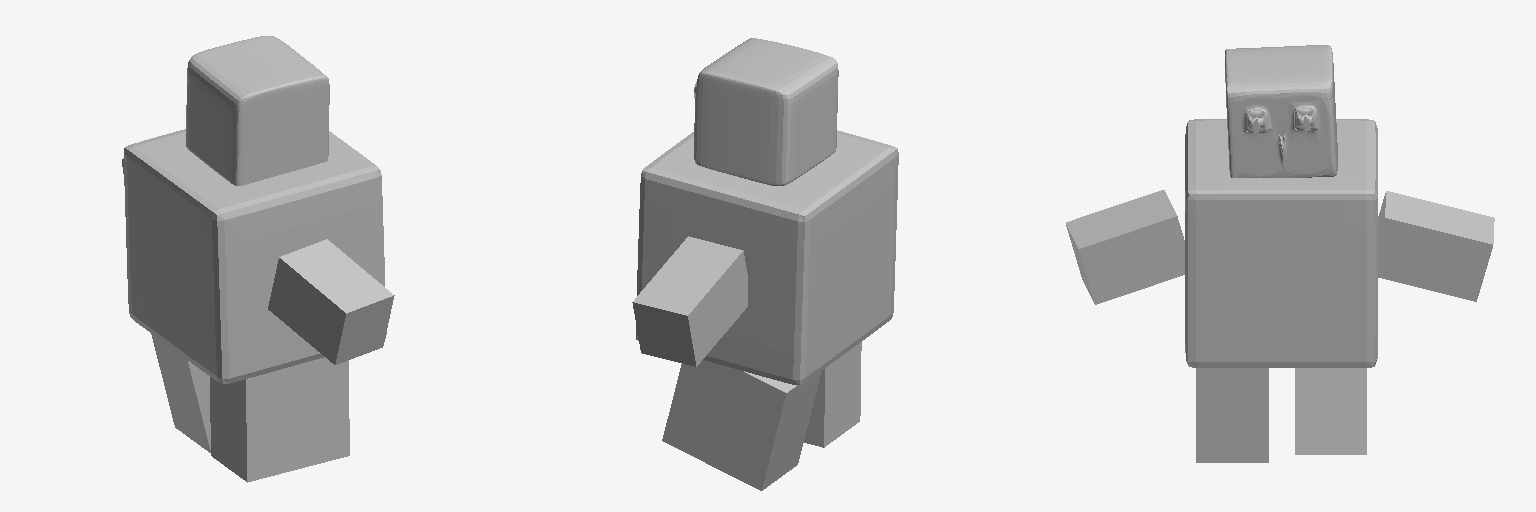
The picture shows the model from 3 angles: view 1: azimuth 30°, elevation 25°; view 2: azimuth 150°, elevation 25°; view 3: azimuth 270°, elevation 25°; orthographic projection.
Visible parts, largest first — view 1: Cube_Cube.001, Cube.001_Cube.002, Cube.002_Cube.003, Cube.005_Cube.007, Cube.003_Cube.004; view 2: Cube_Cube.001, Cube.001_Cube.002, Cube.003_Cube.004, Cube.004_Cube.005, Cube.002_Cube.003; view 3: Cube_Cube.001, Cube.001_Cube.002, Cube.004_Cube.005, Cube.005_Cube.007, Cube.002_Cube.003, Cube.003_Cube.004.
Part boxes in pixels (left/top/right/bottom): Cube_Cube.001: left=124, top=129, right=386, bottom=383; Cube.001_Cube.002: left=186, top=36, right=329, bottom=185; Cube.002_Cube.003: left=210, top=357, right=349, bottom=482; Cube.005_Cube.007: left=268, top=239, right=394, bottom=364; Cube.003_Cube.004: left=151, top=334, right=210, bottom=452; Cube_Cube.001: left=636, top=130, right=898, bottom=384; Cube.001_Cube.002: left=694, top=38, right=838, bottom=185; Cube.003_Cube.004: left=662, top=360, right=821, bottom=490; Cube.004_Cube.005: left=632, top=236, right=747, bottom=366; Cube.002_Cube.003: left=804, top=342, right=861, bottom=447; Cube_Cube.001: left=1185, top=119, right=1377, bottom=367; Cube.001_Cube.002: left=1225, top=45, right=1337, bottom=177; Cube.004_Cube.005: left=1378, top=191, right=1494, bottom=301; Cube.005_Cube.007: left=1066, top=190, right=1184, bottom=304; Cube.002_Cube.003: left=1196, top=368, right=1268, bottom=462; Cube.003_Cube.004: left=1295, top=368, right=1366, bottom=454.
Bounding box in the file's own units: 1.5 × 3.23 × 3.24.